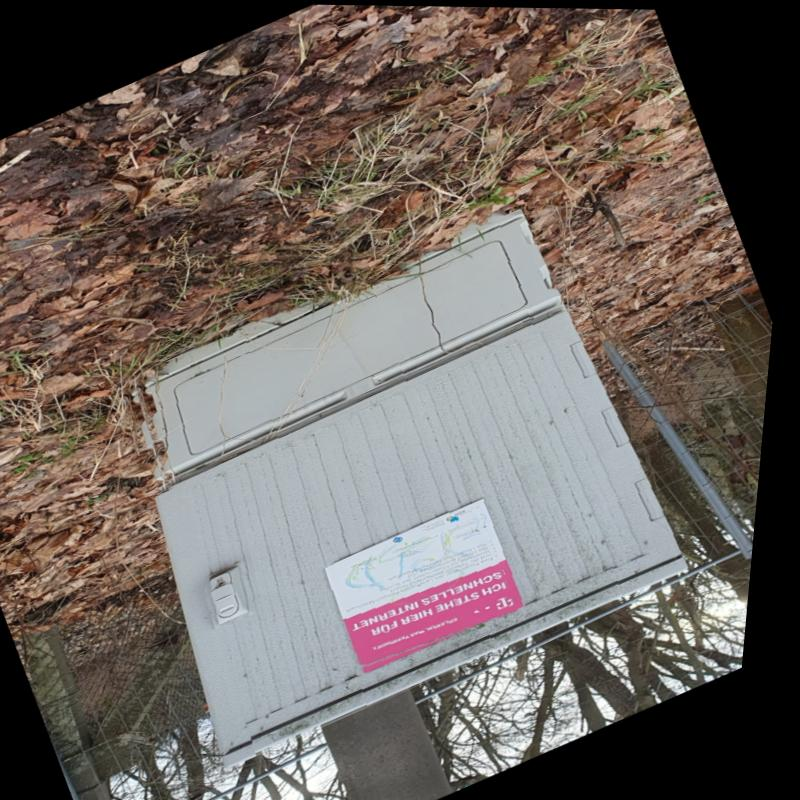NT-Gehause: (98, 190, 724, 762)
Steaker: (320, 497, 538, 681)
